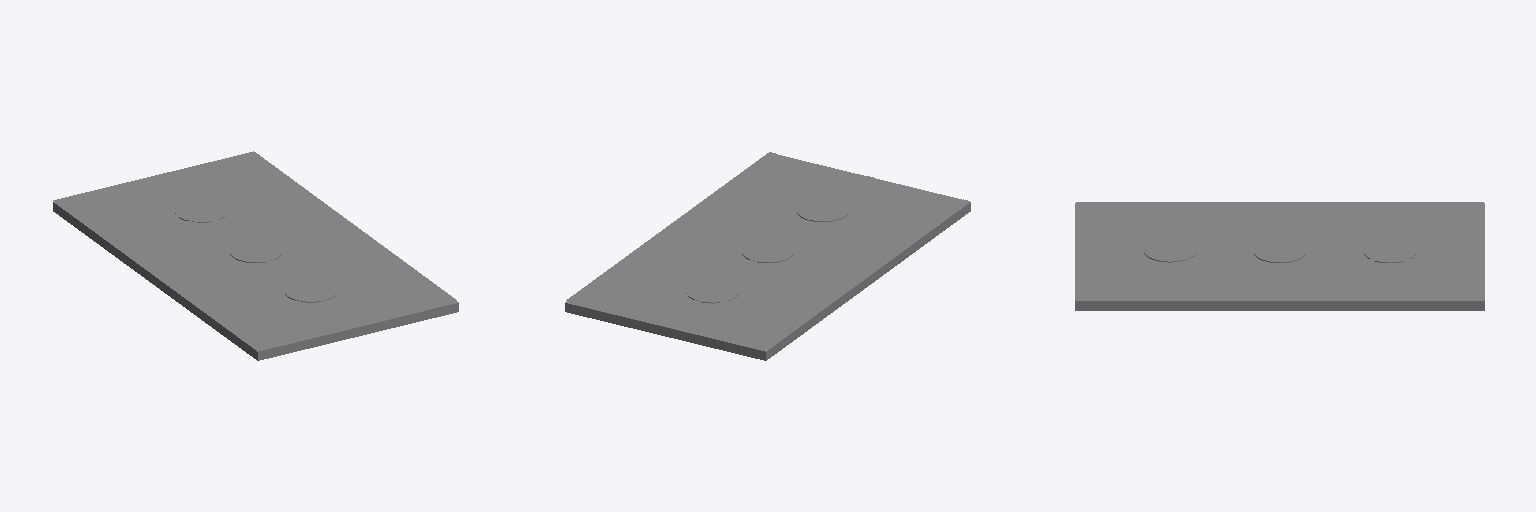
The model's file is BaseAlamedaCentral.obj.
3 views of the same model, side by side, from view 1: azimuth 30°, elevation 25°; view 2: azimuth 150°, elevation 25°; view 3: azimuth 270°, elevation 25° (orthographic).
Parts seen in each view (by area): view 1: Box001, Box009, Box008, Cylinder001, Cylinder002, Cylinder003, Box005, Box011, Box010, Box006, Box013, Box014 (+4 smaller); view 2: Box001, Box009, Box008, Cylinder002, Cylinder001, Cylinder003, Box005, Box011, Box010, Box006, Box013, Box014 (+3 smaller); view 3: Box001, Box008, Box009, Cylinder001, Cylinder002, Cylinder003, Box005, Box011, Box010, Box006, Box013, Box014 (+4 smaller).
Part boxes in pixels (x1,y1,x2,y2): Box001: (53,156,458,360); Box009: (251,152,456,302); Box008: (54,201,263,349); Cylinder001: (230,240,281,262); Cylinder002: (285,279,336,302); Cylinder003: (175,199,227,222); Box005: (155,178,360,326); Box011: (53,151,257,203); Box010: (255,302,457,350); Box006: (257,254,344,346); Box013: (152,177,231,270); Box014: (169,278,391,297); Box001: (565,159,970,360); Box009: (566,152,775,300); Box008: (765,199,969,349); Cylinder002: (797,199,848,221); Cylinder001: (742,240,793,262); Cylinder003: (686,280,738,303); Box005: (665,176,873,326); Box011: (567,298,769,349); Box010: (776,154,969,204); Box006: (732,200,960,219); Box013: (631,277,858,299); Box014: (788,179,870,269); Box001: (1075,203,1484,310); Box008: (1076,202,1475,205); Box009: (1076,296,1483,299); Cylinder001: (1254,240,1305,262); Cylinder002: (1144,239,1195,262); Cylinder003: (1364,240,1415,262); Box005: (1076,249,1475,252); Box011: (1476,202,1483,298); Box010: (1076,206,1083,300); Box006: (1079,204,1232,281); Box013: (1289,206,1446,278); Box014: (1118,206,1269,279).
Size of the model in its own units: 22.02 by 1.17 by 38.71.